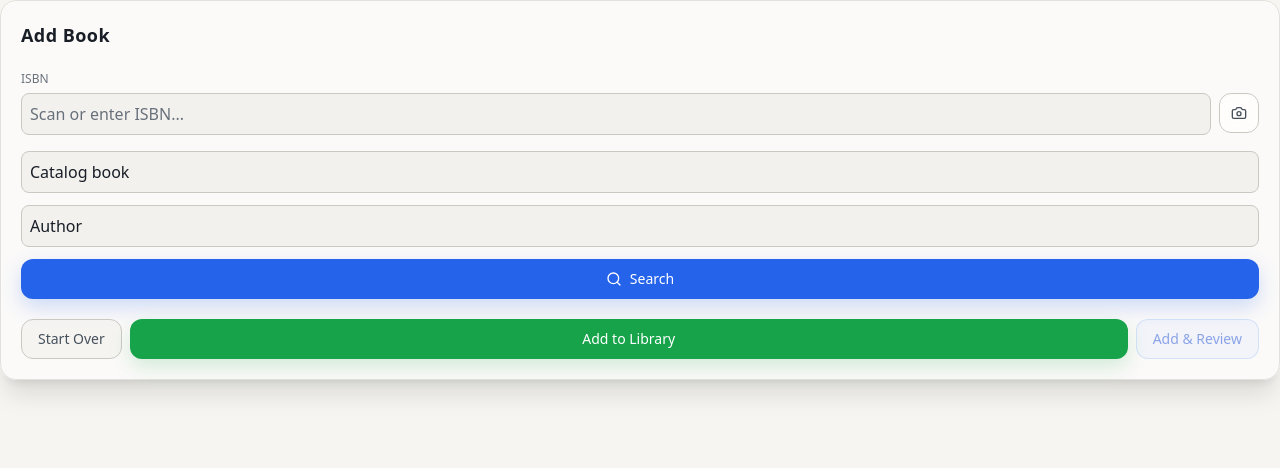
keeps creation errors visible
The image size is (1280, 468).
Click the button "Add to Library": [629, 339] box [130,319,1128,359]
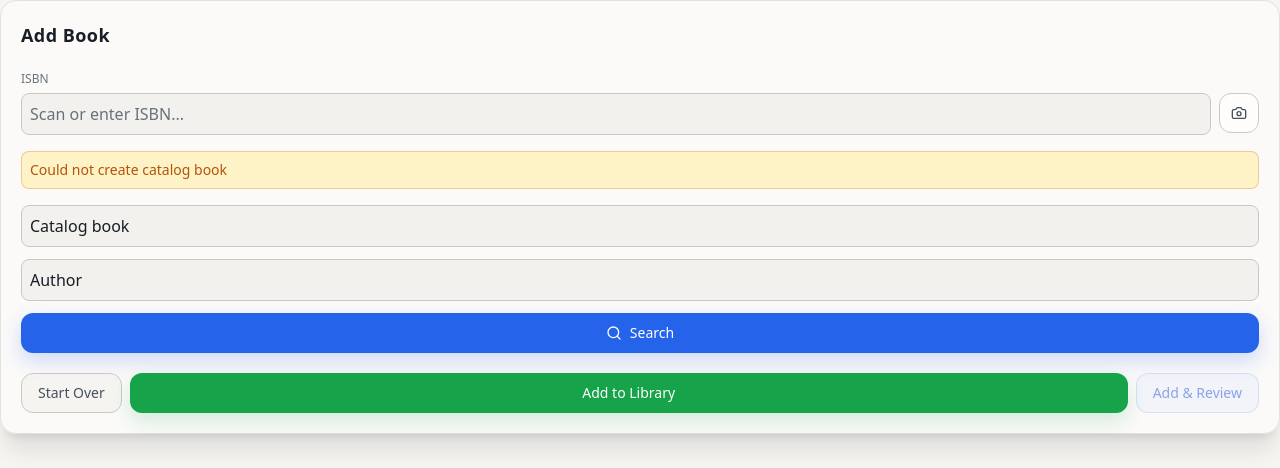
Check: the text "Could not create catalog book" is shown, box [21,151,1259,189]
